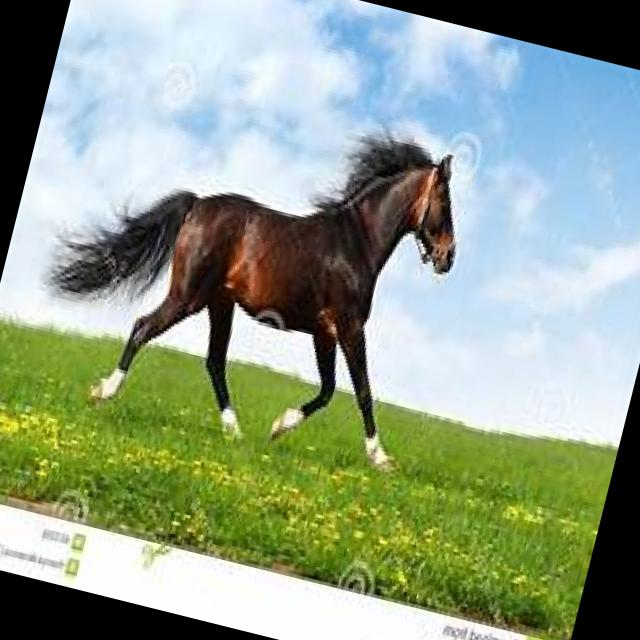animal: (27, 69, 477, 478)
